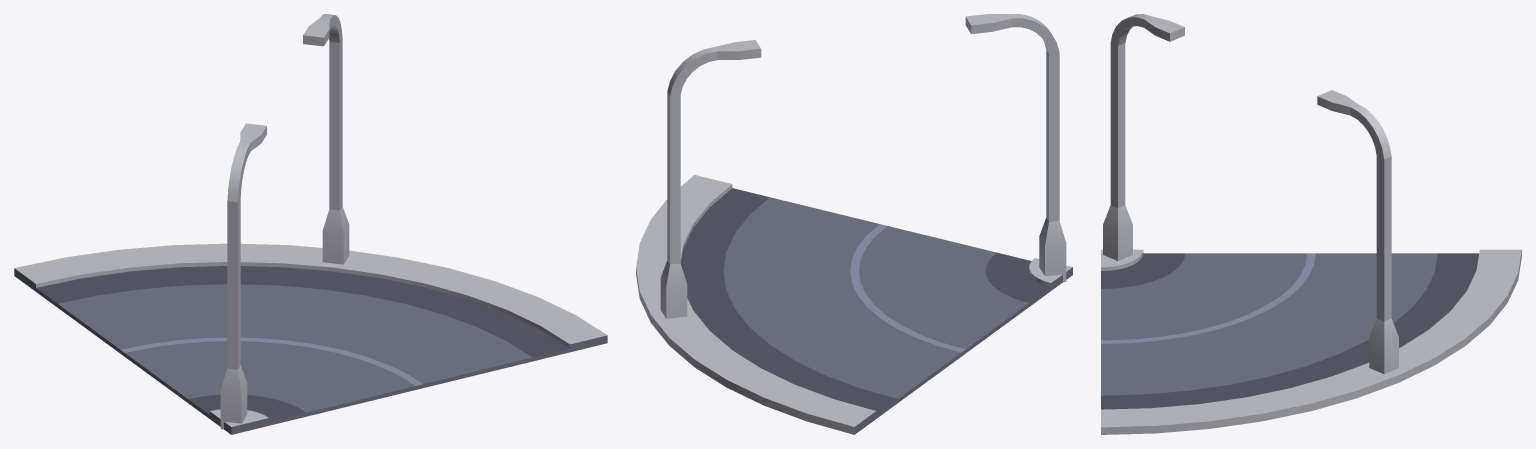
File: city_road_corner_lit.obj
3 renders of one model, left to right at view 1: azimuth 30°, elevation 25°; view 2: azimuth 150°, elevation 25°; view 3: azimuth 270°, elevation 25°, orthographic. The views are drawn at different scales.
Parts seen in each view (by area): view 1: mergedBlocks; view 2: mergedBlocks; view 3: mergedBlocks.
Boxes of the visible parts, <box> form: mergedBlocks: <box>14,14,607,434</box>; mergedBlocks: <box>636,14,1072,434</box>; mergedBlocks: <box>1101,14,1521,434</box>.
Size of the model in its own units: 1.01 by 0.675 by 1.
